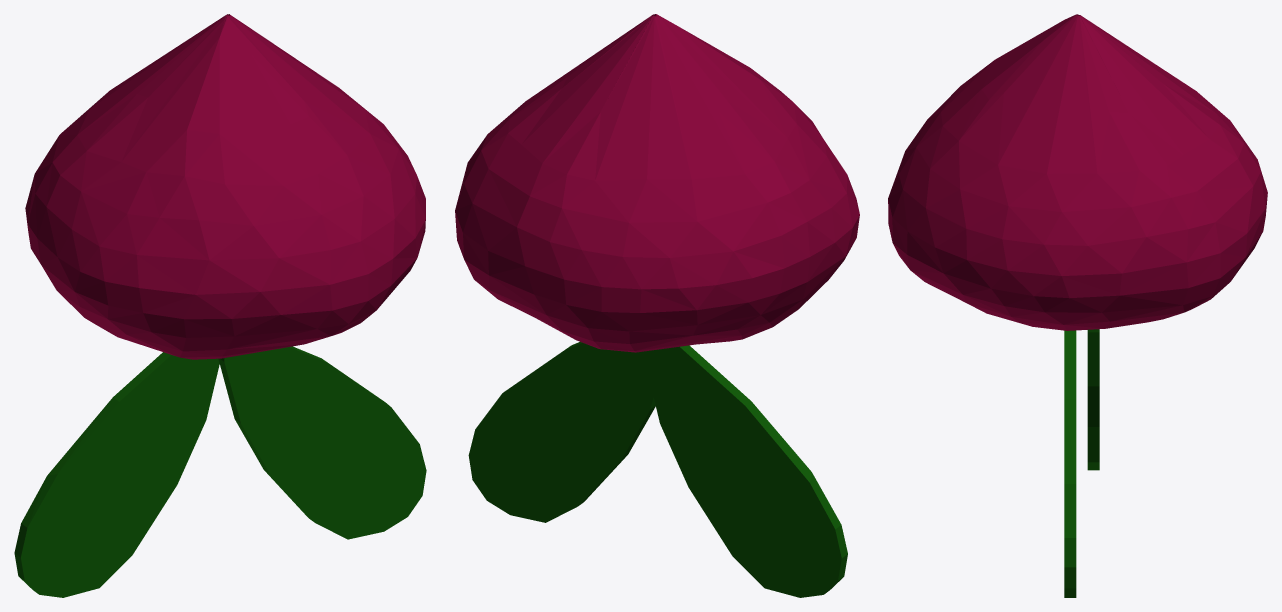
File: Beet.fbx
3 renders of one model, left to right at view 1: azimuth 30°, elevation 25°; view 2: azimuth 150°, elevation 25°; view 3: azimuth 270°, elevation 25°, orthographic. The views are drawn at different scales.
Parts seen in each view (by area): view 1: Turnip.001; view 2: Turnip.001; view 3: Turnip.001.
Part boxes in pixels (x1,y1,x2,y2): Turnip.001: (14, 14, 426, 597); Turnip.001: (455, 14, 859, 597); Turnip.001: (888, 14, 1267, 597).
Bounding box in the file's own units: 54.99 × 49.14 × 73.23.
